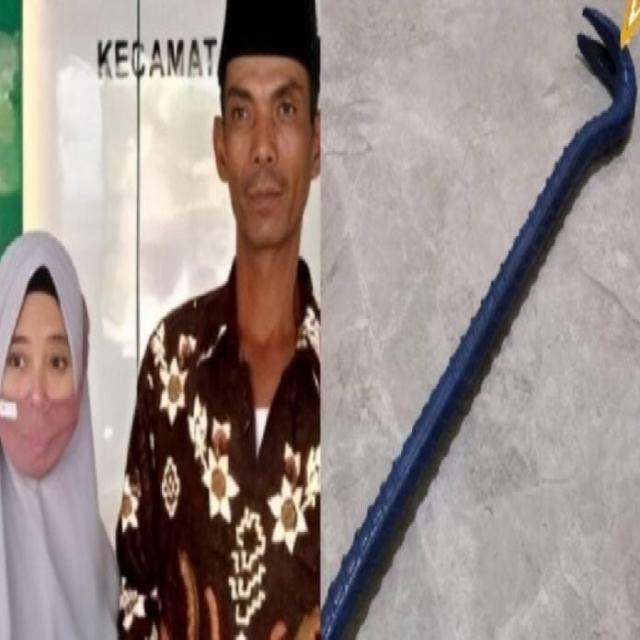Linggis: (320, 8, 637, 640)
